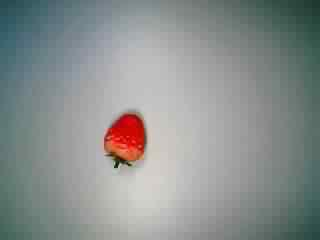strawberry: (88, 110, 161, 174)
